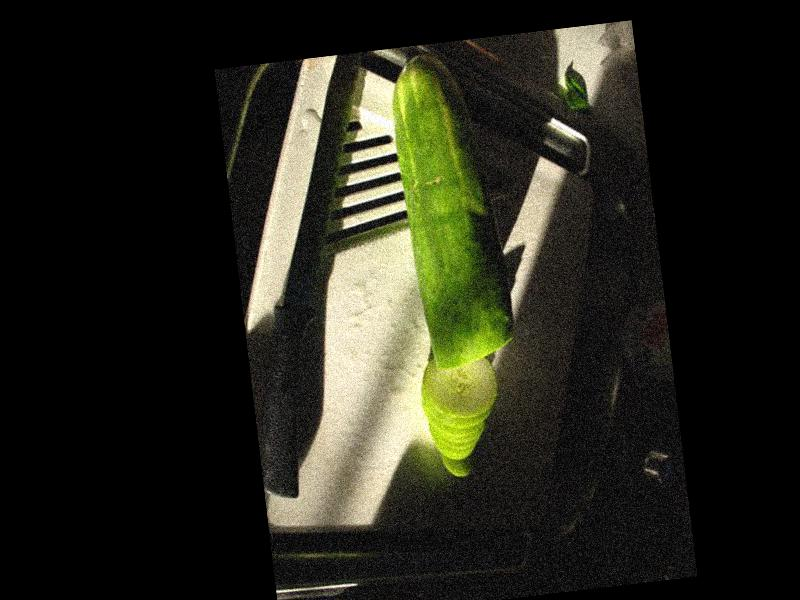Cucumber: (385, 47, 517, 374)
